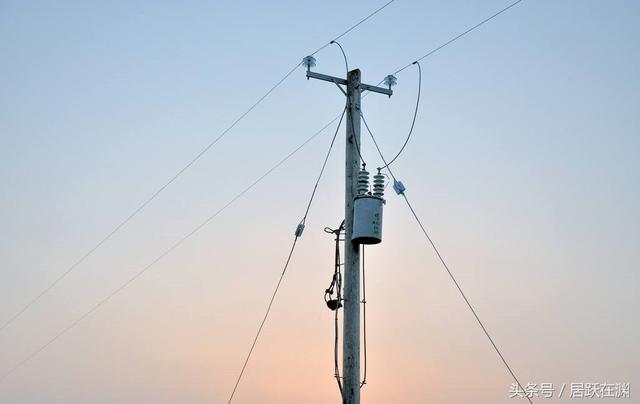utility_pole: (294, 35, 405, 130)
